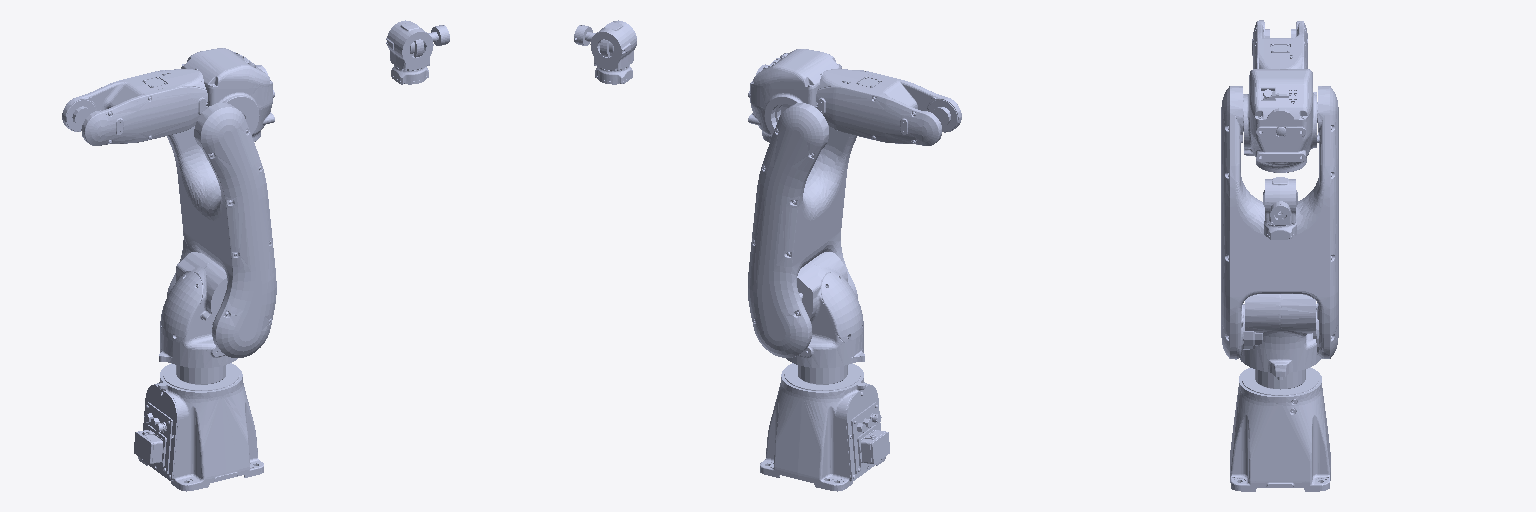
robot.urdf — gp7_yaskawa:
<?xml version="1.0" encoding="utf-8"?>

<robot
  name="gp7_yaskawa">
  <link name  ="world"/>

  <joint    name  ="virtual_joint"         type      ="fixed">
    <origin xyz   ="0 0 0.33"                 rpy       ="0 0 0"/>
    <parent link  ="world"/>
    <child  link  ="base_link"/>
  </joint>

  <link
    name="base_link">
    <inertial>
      <origin
        xyz="-0.00624914196957612 -4.04717974173639E-05 0.0878963100563808"
        rpy="0 0 0" />
      <mass
        value="5.34384241568406" />
      <inertia
        ixx="0.0268119676458748"
        ixy="-5.51396167836154E-06"
        ixz="-6.58031844389876E-05"
        iyy="0.029881002123894"
        iyz="-1.07632911017694E-05"
        izz="0.028095213396638" />
    </inertial>
    <visual>
      <origin
        xyz="0 0 0"
        rpy="0 0 0" />
      <geometry>
        <mesh
          filename="package://gp7_description/meshes/base_link.STL" />
      </geometry>
      <material
        name="">
        <color
          rgba="0.792156862745098 0.819607843137255 0.933333333333333 1" />
      </material>
    </visual>
    <collision>
      <origin
        xyz="0 0 0"
        rpy="0 0 0" />
      <geometry>
        <mesh
          filename="package://gp7_description/meshes/base_link.STL" />
      </geometry>
    </collision>
  </link>
  <link
    name="link_s">
    <inertial>
      <origin
        xyz="0.0118575476995821 -0.00295252489817784 0.0722106805016177"
        rpy="0 0 0" />
      <mass
        value="3.58814802547406" />
      <inertia
        ixx="0.0176545821104539"
        ixy="0.000292442325680018"
        ixz="-0.00271183358250668"
        iyy="0.0196884339537049"
        iyz="0.000611163166693478"
        izz="0.011007205277213" />
    </inertial>
    <visual>
      <origin
        xyz="0 0 0"
        rpy="0 0 0" />
      <geometry>
        <mesh
          filename="package://gp7_description/meshes/link_s.STL" />
      </geometry>
      <material
        name="">
        <color
          rgba="0.792156862745098 0.819607843137255 0.933333333333333 1" />
      </material>
    </visual>
    <collision>
      <origin
        xyz="0 0 0"
        rpy="0 0 0" />
      <geometry>
        <mesh
          filename="package://gp7_description/meshes/link_s.STL" />
      </geometry>
    </collision>
  </link>
  <joint
    name="joint_1"
    type="revolute">
    <origin
      xyz="0 0 -0.13"
      rpy="0 0 0" />
    <parent
      link="base_link" />
    <child
      link="link_s" />
    <axis
      xyz="0 0 1" />
    <limit
      lower="-2.967"
      upper="2.967"
      effort="0"
      velocity="0" />
  </joint>
  <!-- __________________________ -->
  <link
    name="link_l">
    <inertial>
      <origin
        xyz="0.193498892080953 -0.0259054362875145 0.00275184272330129"
        rpy="0 0 0" />
      <mass
        value="6.86828072813635" />
      <inertia
        ixx="0.0480652626907165"
        ixy="6.83697936889496E-05"
        ixz="6.23662672066351E-05"
        iyy="0.170253388982184"
        iyz="-0.000478558708182214"
        izz="0.135714429845793" />
    </inertial>
    <visual>
      <origin
        xyz="0 0 0"
        rpy="0 0 0" />
      <geometry>
        <mesh
          filename="package://gp7_description/meshes/link_l.STL" />
      </geometry>
      <material
        name="">
        <color
          rgba="0.792156862745098 0.819607843137255 0.933333333333333 1" />
      </material>
    </visual>
    <collision>
      <origin
        xyz="0 0 0"
        rpy="0 0 0" />
      <geometry>
        <mesh
          filename="package://gp7_description/meshes/link_l.STL" />
      </geometry>
    </collision>
  </link>
  <joint
    name="joint_2"
    type="revolute">
    <origin
      xyz="0.04 0 0.13"
      rpy="-1.5708 -1.5708 0" />
    <parent
      link="link_s" />
    <child
      link="link_l" />
    <axis
      xyz="0 0 1" />
    <limit
      lower="-1.134"
      upper="2.53"
      effort="0"
      velocity="0" />
  </joint>
  <!-- __________________________ -->
  <link
    name="link_u">
    <inertial>
      <origin
        xyz="-0.0208224844268707 0.0196602104493013 0.00304260330920494"
        rpy="0 0 0" />
      <mass
        value="2.70489525302695" />
      <inertia
        ixx="0.0080705141761923"
        ixy="-0.000585798961817208"
        ixz="-0.000206159141956839"
        iyy="0.00868316749874126"
        iyz="0.000160006288312911"
        izz="0.00973498410252516" />
    </inertial>
    <visual>
      <origin
        xyz="0 0 0"
        rpy="0 0 0" />
      <geometry>
        <mesh
          filename="package://gp7_description/meshes/link_u.STL" />
      </geometry>
      <material
        name="">
        <color
          rgba="0.792156862745098 0.819607843137255 0.933333333333333 1" />
      </material>
    </visual>
    <collision>
      <origin
        xyz="0 0 0"
        rpy="0 0 0" />
      <geometry>
        <mesh
          filename="package://gp7_description/meshes/link_u.STL" />
      </geometry>
    </collision>
  </link>
  <joint
    name="joint_3"
    type="revolute">
    <origin
      xyz="0.445 0 0"
      rpy="3.1416 0 1.5708" />
    <parent
      link="link_l" />
    <child
      link="link_u" />
    <axis
      xyz="0 0 1" />
    <limit
      lower="-1.221"
      upper="3.3161"
      effort="0"
      velocity="0" />
  </joint>
  <!-- __________________________ -->
  <link
    name="link_r">
    <inertial>
      <origin
        xyz="-0.417233135752391 -7.79136127369717E-06 0.09092426041281"
        rpy="0 0 0" />
      <mass
        value="18.9092203482809" />
      <inertia
        ixx="0.19457456525127"
        ixy="2.62737161656305E-06"
        ixz="0.125666206826633"
        iyy="1.46825915892511"
        iyz="-1.81136173232842E-05"
        izz="1.39775942863277" />
    </inertial>
    <visual>
      <origin
        xyz="0 0 0"
        rpy="0 0 0" />
      <geometry>
        <mesh
          filename="package://gp7_description/meshes/link_r.STL" />
      </geometry>
      <material
        name="">
        <color
          rgba="0.792156862745098 0.819607843137255 0.933333333333333 1" />
      </material>
    </visual>
    <collision>
      <origin
        xyz="0 0 0"
        rpy="0 0 0" />
      <geometry>
        <mesh
          filename="package://gp7_description/meshes/link_r.STL" />
      </geometry>
    </collision>
  </link>
  <joint
    name="joint_4"
    type="revolute">
    <origin
      xyz="0.07 0.039957 0"
      rpy="-1.5708 0 1.5708" />
    <parent
      link="link_u" />
    <child
      link="link_r" />
    <axis
      xyz="0 0 1" />
    <limit
      lower="-3.3161"
      upper="3.3161"
      effort="0"
      velocity="0" />
  </joint>
  <!-- __________________________ -->
  <link
    name="link_b">
    <inertial>
      <origin
        xyz="0.0189079745317445 -0.000209216105547805 1.59395134461097E-05"
        rpy="0 0 0" />
      <mass
        value="0.380193709461138" />
      <inertia
        ixx="0.000244640508050436"
        ixy="1.22324354768958E-06"
        ixz="1.93127414185342E-07"
        iyy="0.000448421612095098"
        iyz="-4.01202663050252E-07"
        izz="0.000479792326173296" />
    </inertial>
    <visual>
      <origin
        xyz="0 0 0"
        rpy="0 0 0" />
      <geometry>
        <mesh
          filename="package://gp7_description/meshes/link_b.STL" />
      </geometry>
      <material
        name="">
        <color
          rgba="0.792156862745098 0.819607843137255 0.933333333333333 1" />
      </material>
    </visual>
    <collision>
      <origin
        xyz="0 0 0"
        rpy="0 0 0" />
      <geometry>
        <mesh
          filename="package://gp7_description/meshes/link_b.STL" />
      </geometry>
    </collision>
  </link>
  <joint
    name="joint_5"
    type="revolute">
    <origin
      xyz="0 0 -0.37"
      rpy="1.5708 1.5708 0" />
    <parent
      link="link_r" />
    <child
      link="link_b" />
    <axis
      xyz="0 0 1" />
    <limit
      lower="-2.356"
      upper="2.356"
      effort="0"
      velocity="0" />
  </joint>
  <!-- __________________________ -->
  <link
    name="link_t">
    <inertial>
      <origin
        xyz="-6.575302849543E-05 -6.63907970870713E-12 -0.00620586394301925"
        rpy="0 0 0" />
      <mass
        value="0.0238316498274653" />
      <inertia
        ixx="4.62925903203031E-06"
        ixy="2.12236723211218E-17"
        ixz="1.01754890905325E-08"
        iyy="4.66142070753499E-06"
        iyz="5.95563466379997E-16"
        izz="8.62861647089172E-06" />
    </inertial>
    <visual>
      <origin
        xyz="0 0 0"
        rpy="0 0 0" />
      <geometry>
        <mesh
          filename="package://gp7_description/meshes/link_t.STL" />
      </geometry>
      <material
        name="">
        <color
          rgba="0.792156862745098 0.819607843137255 0.933333333333333 1" />
      </material>
    </visual>
    <collision>
      <origin
        xyz="0 0 0"
        rpy="0 0 0" />
      <geometry>
        <mesh
          filename="package://gp7_description/meshes/link_t.STL" />
      </geometry>
    </collision>
  </link>
  <joint
    name="joint_6"
    type="revolute">
    <origin
      xyz="0.08 0 0"
      rpy="1.5708 0 1.5708" />
    <parent
      link="link_b" />
    <child
      link="link_t" />
    <axis
      xyz="0 0 1" />
    <limit
      lower="-6.283"
      upper="6.283"
      effort="0"
      velocity="0" />
  </joint>
  <!-- __________________________ -->
  <link    name="link_tool">
    <inertial>
      <origin
        xyz="-6.575302849543E-05 -6.63907970870713E-12 -0.00620586394301925"
        rpy="0 0 0" />
      <mass
        value="0.0238316498274653" />
      <inertia
        ixx="4.62925903203031E-06"
        ixy="2.12236723211218E-17"
        ixz="1.01754890905325E-08"
        iyy="4.66142070753499E-06"
        iyz="5.95563466379997E-16"
        izz="8.62861647089172E-06" />
    </inertial>
    <visual>
      <origin
        xyz="0 0 0"
        rpy="0 0 0" />
      <geometry>
        <mesh
          filename="package://gp7_description/meshes/end_effector.STL" />
      </geometry>
      <material
        name="">
        <color
          rgba="0.792156862745098 0.819607843137255 0.933333333333333 1" />
      </material>
    </visual>
    <collision>
      <origin
        xyz="0 0 0"
        rpy="0 0 0" />
      <geometry>
        <mesh
          filename="package://gp7_description/meshes/end_effector.STL" />
      </geometry>
    </collision>
  </link>

  <joint    name  ="tool"         type      ="fixed">
    <origin xyz   ="0 0 0"        rpy       ="0 0 0"/>
    <parent link  ="link_t"/>
    <child  link  ="link_tool"/>
  </joint>

  <link name  ="tool0"/>

  <joint    name  ="tcp"         type      ="fixed">
    <origin xyz   ="0 0 0.09"               rpy       ="0 0 0"/>
    <parent link  ="link_tool"/>
    <child  link  ="tool0"/>
  </joint>


</robot>

--- Render facts (derived) ---
3 views of the same robot in one strip: view 1: azimuth 30°, elevation 25°; view 2: azimuth 150°, elevation 25°; view 3: azimuth 270°, elevation 25° (orthographic).
Robot: gp7_yaskawa — 10 links, 9 joints (6 revolute, 3 fixed); root link world; default pose: all joints at 0.
Visible links, largest first — view 1: link_l, base_link, link_r, link_s, link_u, link_b, link_t; view 2: link_l, base_link, link_r, link_s, link_u, link_b, link_t; view 3: link_l, base_link, link_u, link_s, link_r, link_b.
Boxes of the visible links, left/top/right/bottom form: link_l: left=167, top=103, right=276, bottom=357; base_link: left=134, top=363, right=263, bottom=491; link_r: left=62, top=58, right=267, bottom=145; link_s: left=159, top=252, right=237, bottom=383; link_u: left=181, top=48, right=274, bottom=141; link_b: left=386, top=20, right=433, bottom=84; link_t: left=410, top=25, right=449, bottom=57; link_l: left=748, top=103, right=857, bottom=357; base_link: left=760, top=363, right=889, bottom=491; link_r: left=756, top=58, right=961, bottom=145; link_s: left=786, top=252, right=864, bottom=383; link_u: left=748, top=49, right=841, bottom=142; link_b: left=590, top=20, right=636, bottom=84; link_t: left=574, top=25, right=613, bottom=57; link_l: left=1221, top=86, right=1338, bottom=359; base_link: left=1230, top=367, right=1330, bottom=491; link_u: left=1244, top=69, right=1316, bottom=172; link_s: left=1240, top=294, right=1320, bottom=388; link_r: left=1252, top=20, right=1307, bottom=137; link_b: left=1264, top=177, right=1296, bottom=239.
Bounding box of the posed robot: 0.8546 × 0.23 × 0.88 m (x, y, z).
Meshes: 8 distinct files referenced, 7 mesh visuals loaded (7 binary STL); not drawn: 1 (reference not matched to a file when rendering).
